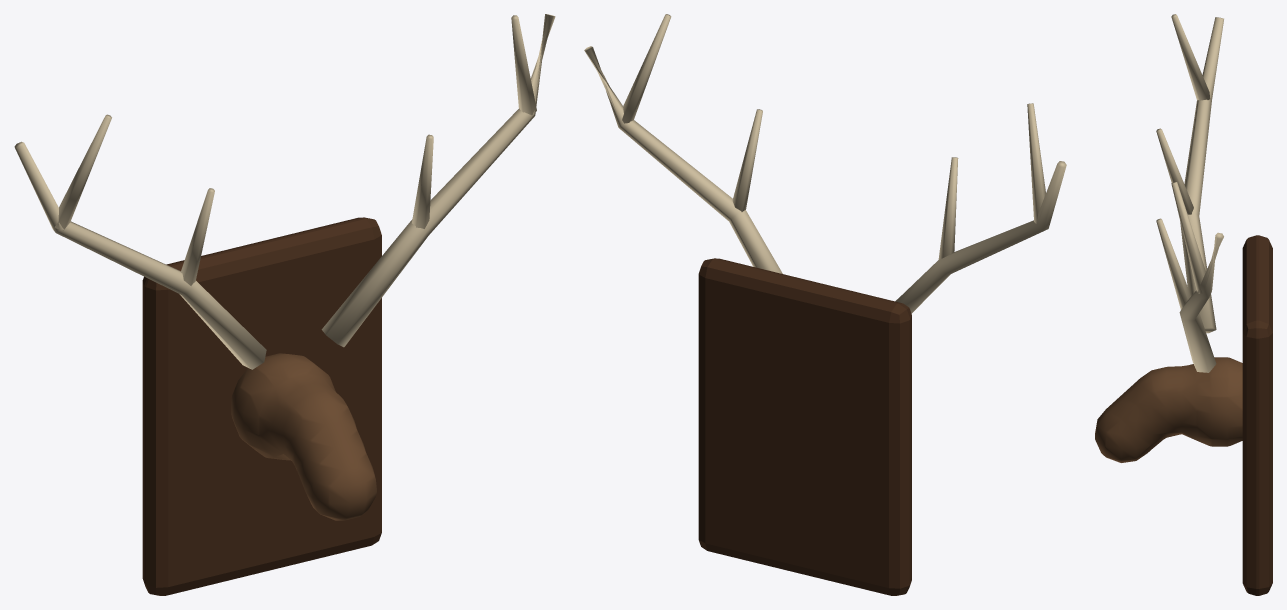
File: antlers.glb
The picture shows the model from 3 angles, left to right: view 1: azimuth 30°, elevation 25°; view 2: azimuth 150°, elevation 25°; view 3: azimuth 270°, elevation 25°; orthographic projection. The views are drawn at different scales.
Parts seen in each view (by area): view 1: antlers; view 2: antlers; view 3: antlers.
Part boxes in pixels (<box>): antlers: <box>14,14,555,595</box>; antlers: <box>584,14,1066,595</box>; antlers: <box>1095,14,1272,595</box>.
Size of the model in its own units: 0.6897 by 0.6614 by 0.2344.
